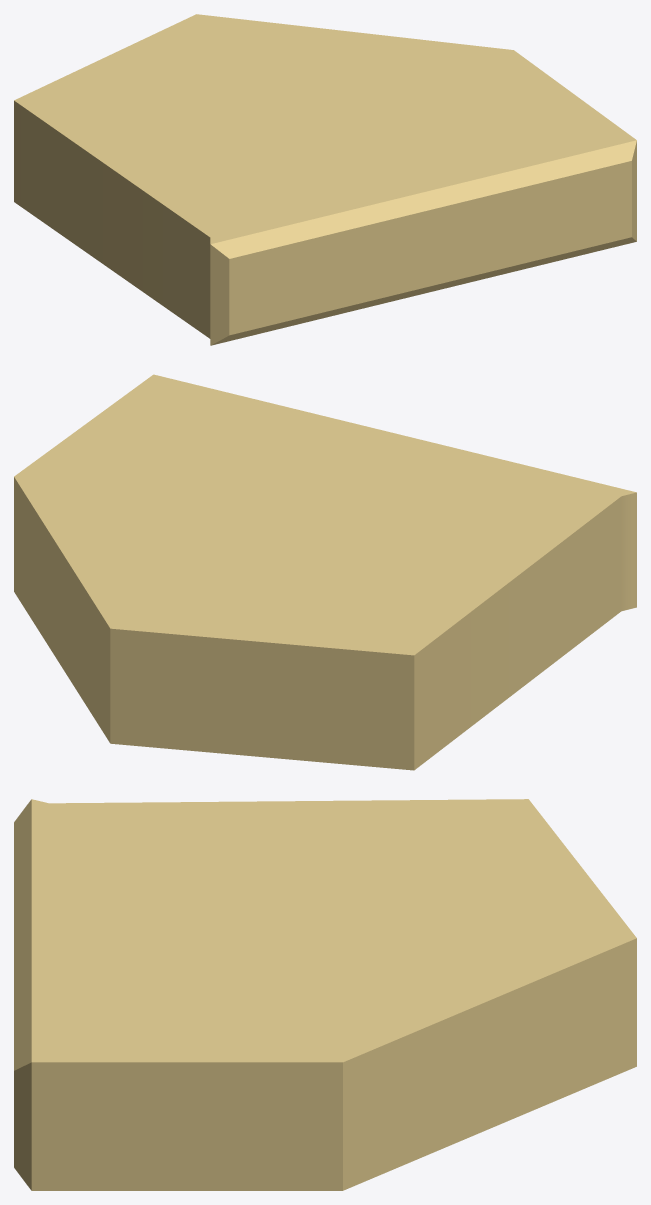
Rendered from Carved_Stones_7.fbx.
3 renders of one model, top to bottom at view 1: azimuth 30°, elevation 25°; view 2: azimuth 150°, elevation 25°; view 3: azimuth 270°, elevation 25°, orthographic. The views are drawn at different scales.
Visible parts, largest first — view 1: MESH_Carved_Stones_7; view 2: MESH_Carved_Stones_7; view 3: MESH_Carved_Stones_7.
Boxes of the visible parts, bbox=[...] form: MESH_Carved_Stones_7: bbox=[14, 14, 636, 345]; MESH_Carved_Stones_7: bbox=[14, 374, 636, 770]; MESH_Carved_Stones_7: bbox=[14, 799, 636, 1190].
Size of the model in its own units: 2.18 by 0.4965 by 2.18.
